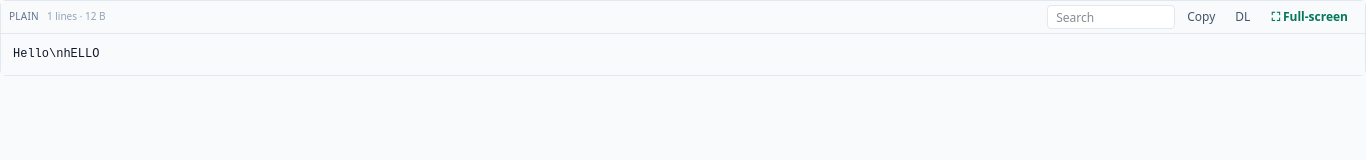
Test: CodeBlock › search is case-insensitive
The width and height of the screenshot is (1366, 160).
Type "hello" into the search field named "Search inside code". click: {"x": 1111, "y": 17}
box: [1047,5,1175,29]
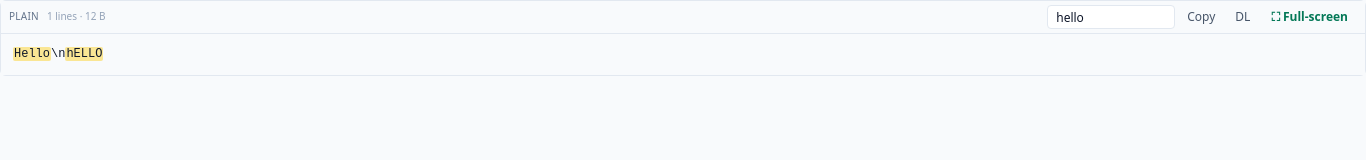
Result: the number of elements with class "jv-match" is 2 at [13,47,51,61]; [65,47,103,61]
